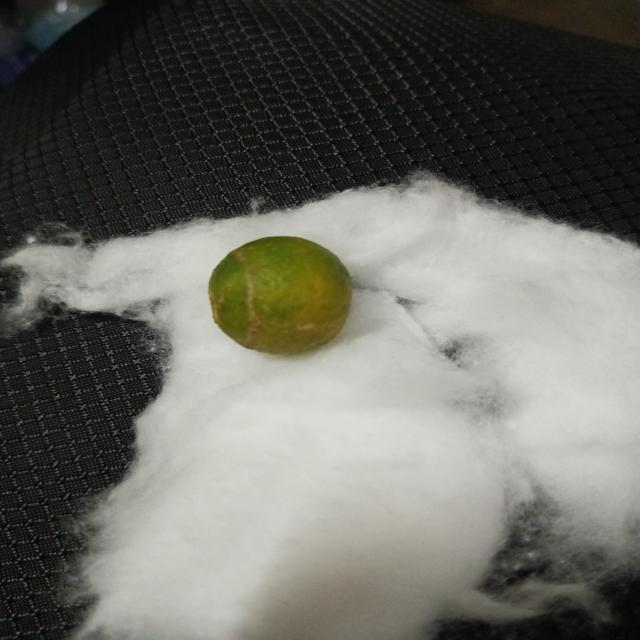thrips: (203, 230, 362, 360)
